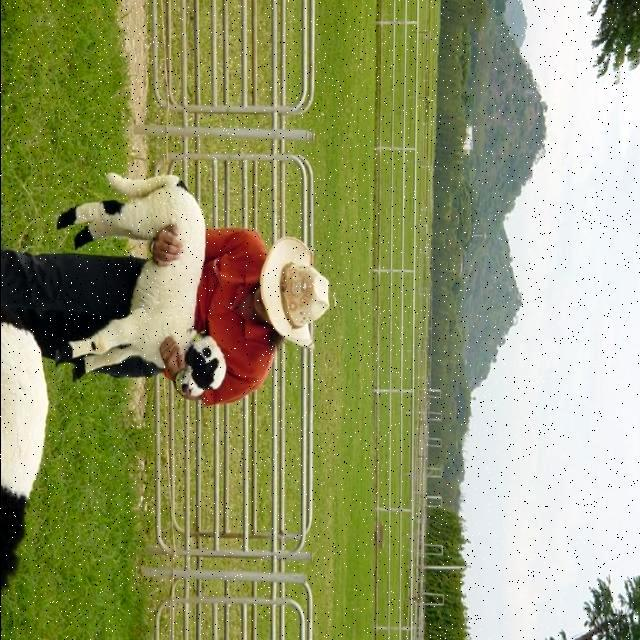sheep: (54, 190, 226, 395), (2, 325, 50, 588)
